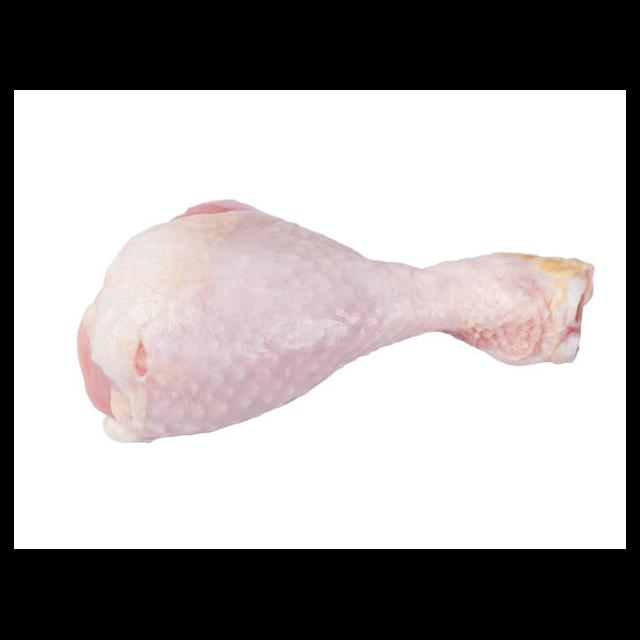chicken: (76, 200, 597, 443)
